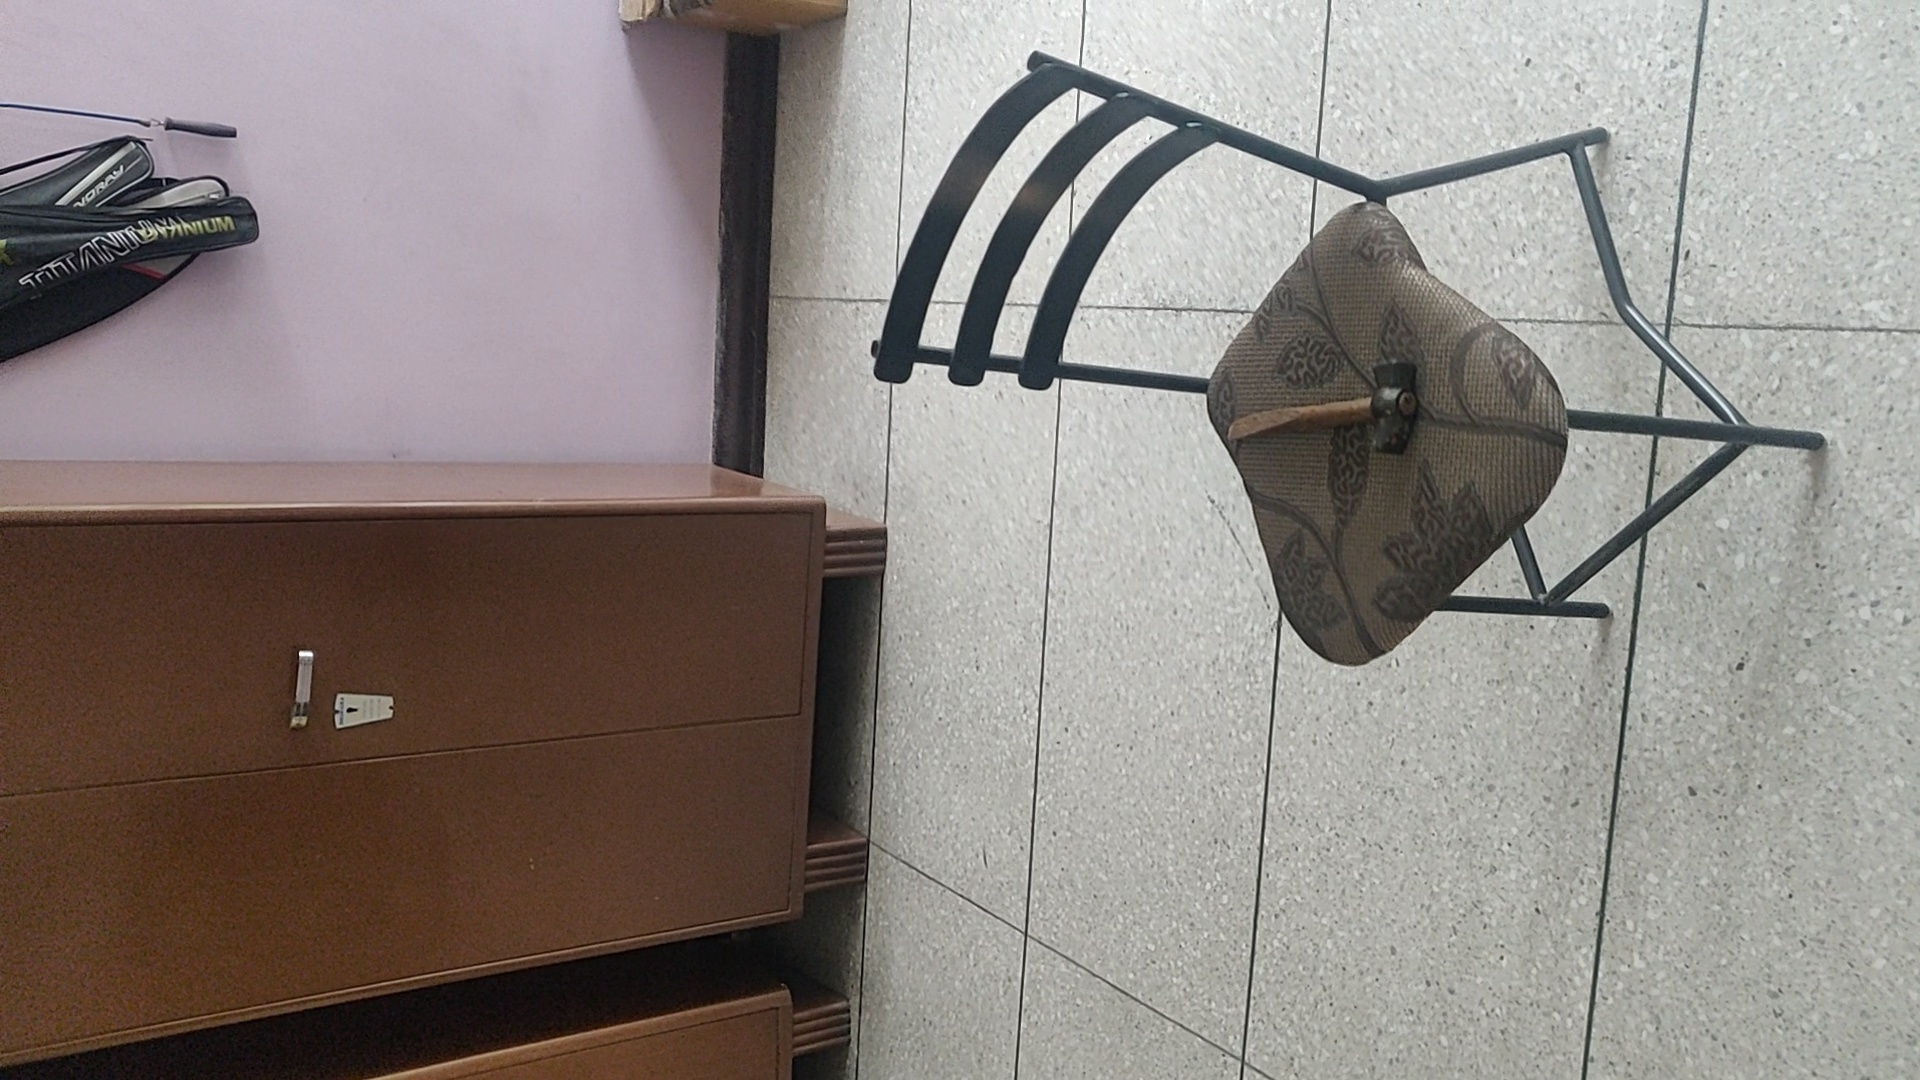hammer: (1224, 357, 1422, 458)
